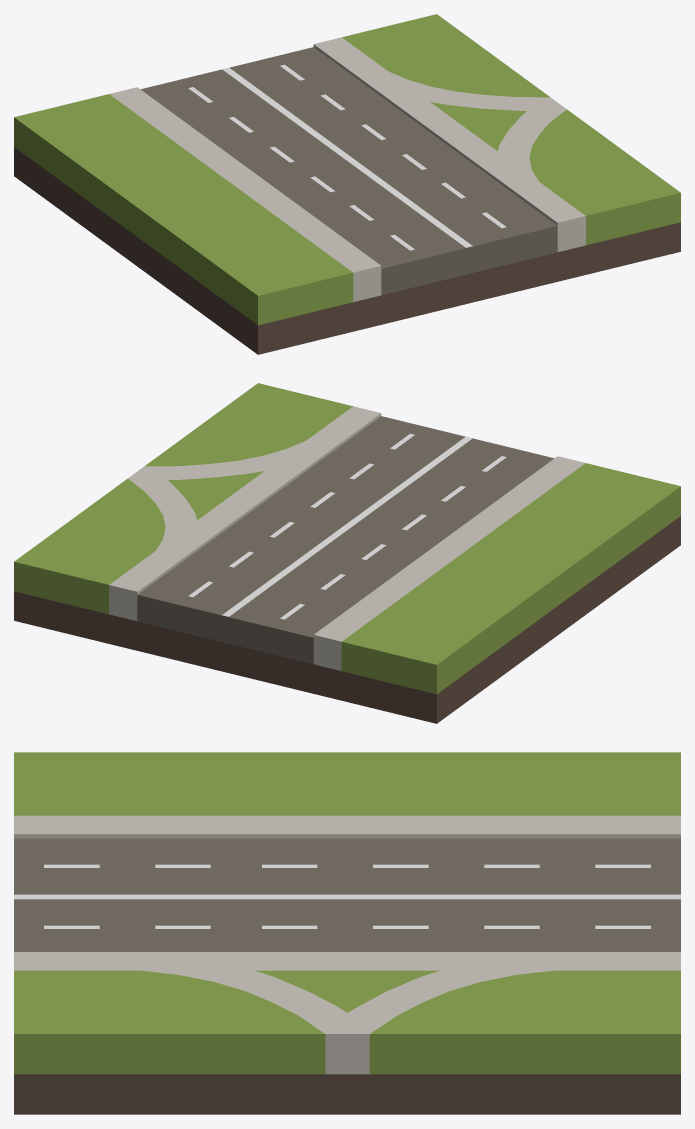
File: mainroad-tile-straight-sidewalk.fbx
3 views of the same model, one above another, from view 1: azimuth 30°, elevation 25°; view 2: azimuth 150°, elevation 25°; view 3: azimuth 270°, elevation 25° (orthographic). The views are drawn at different scales.
Visible parts, largest first — view 1: mainroad-tile-straight-sidewalk; view 2: mainroad-tile-straight-sidewalk; view 3: mainroad-tile-straight-sidewalk.
Part boxes in pixels (x1,y1,x2,y2): mainroad-tile-straight-sidewalk: (14,14,680,354); mainroad-tile-straight-sidewalk: (14,383,680,723); mainroad-tile-straight-sidewalk: (14,752,680,1114).
Bounding box in the file's own units: 3000 × 400 × 3000.
